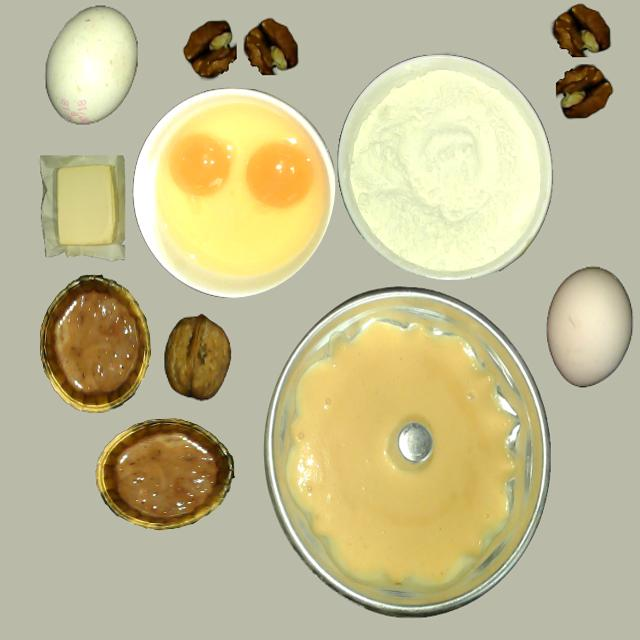Egg: (162, 130, 318, 272), (541, 263, 633, 394)
Walnut: (167, 305, 239, 405)
